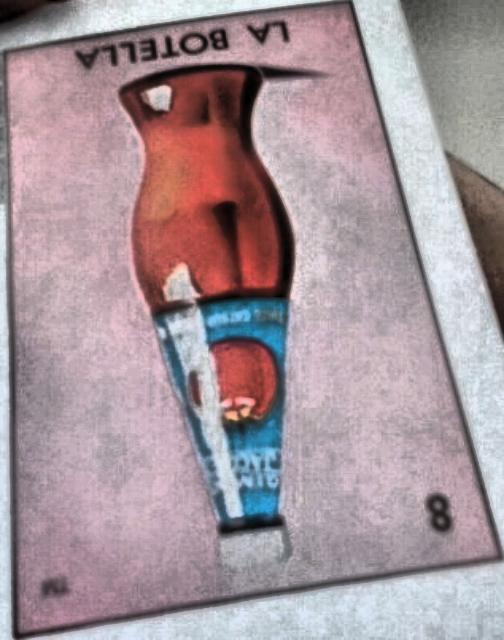La Botella: (6, 4, 502, 635)
